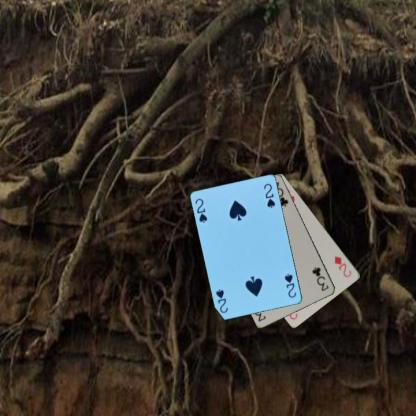2d: (332, 254, 353, 278)
2s: (282, 271, 298, 299), (193, 196, 209, 224)
3c: (310, 264, 330, 292)
